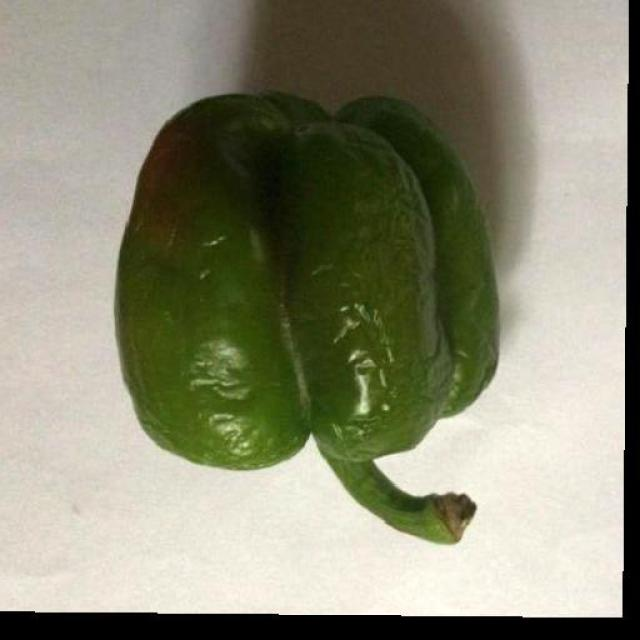Stale_Capsicum: (113, 94, 525, 502)
